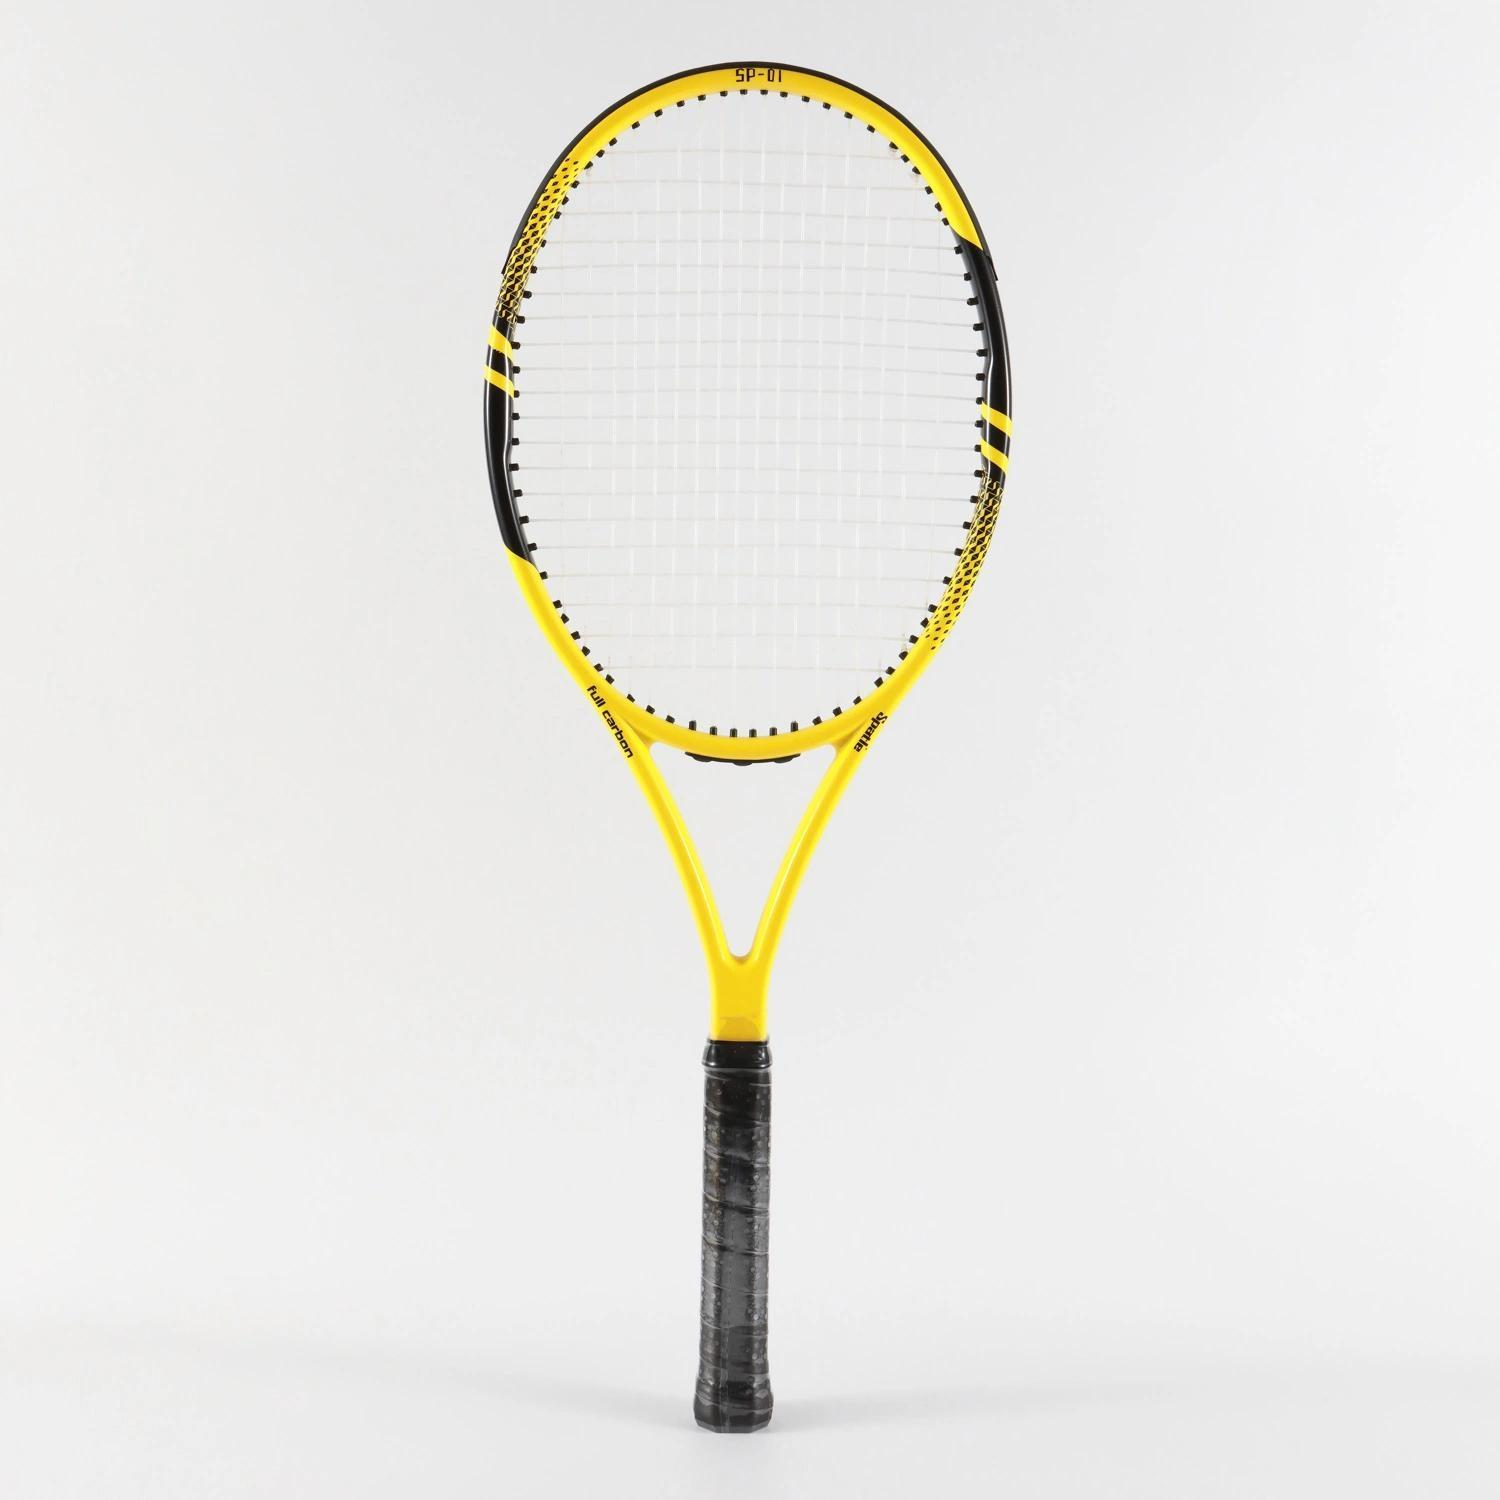Tennis-Racket: (484, 62, 1014, 1431)
